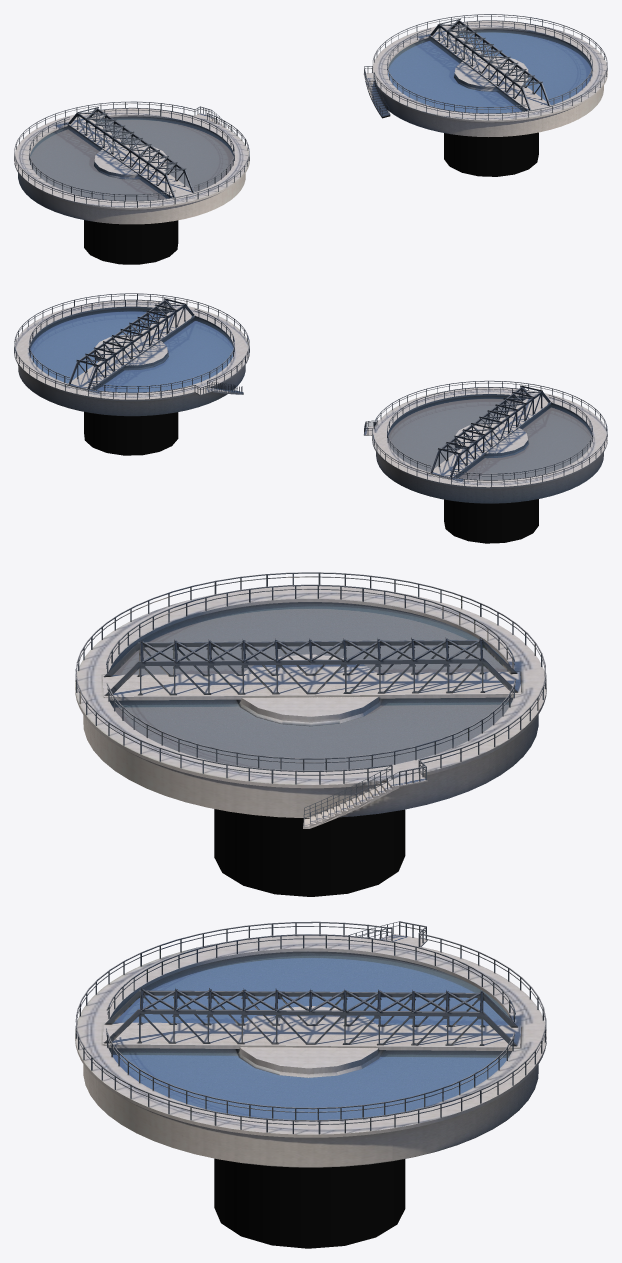
Rendered from 清水池.36b2b115.glb.
3 renders of one model, top to bottom at view 1: azimuth 30°, elevation 25°; view 2: azimuth 150°, elevation 25°; view 3: azimuth 270°, elevation 25°, orthographic. The views are drawn at different scales.
Visible parts, largest first — view 1: sc2054, sc2068, sc2060, sc2074, sc2078, sc2064, sc2069, sc2055, sc2079, sc2065, sc2077, sc2063 (+7 smaller); view 2: sc2068, sc2054, sc2074, sc2060, sc2078, sc2064, sc2069, sc2055, sc2065, sc2079, sc2063, sc2077 (+6 smaller); view 3: sc2068, sc2054, sc2060, sc2074, sc2064, sc2078, sc2055, sc2069, sc2063, sc2077, sc2065, sc2079 (+7 smaller).
Boxes of the visible parts, x1,y1,x2,y2 form: sc2054: (388,29,591,113); sc2068: (29,117,234,200); sc2060: (372,21,607,122); sc2074: (14,108,249,209); sc2078: (84,144,178,264); sc2064: (444,55,538,176); sc2069: (18,116,245,224); sc2055: (376,29,603,137); sc2079: (68,107,194,197); sc2065: (430,18,550,110); sc2077: (66,117,195,198); sc2063: (428,30,551,111); sc2068: (388,396,591,479); sc2054: (29,309,234,392); sc2074: (372,387,607,488); sc2060: (14,300,249,401); sc2078: (444,422,538,543); sc2064: (84,334,178,455); sc2069: (376,395,603,503); sc2055: (18,308,245,416); sc2065: (68,298,194,388); sc2079: (430,385,550,476); sc2063: (67,310,195,390); sc2077: (428,397,552,478); sc2068: (109,603,513,770); sc2054: (108,953,511,1121); sc2060: (75,935,546,1137); sc2074: (75,586,546,788); sc2064: (214,1006,405,1248); sc2078: (214,654,405,896); sc2055: (83,951,538,1167); sc2069: (83,602,538,817); sc2063: (102,1022,521,1050); sc2077: (102,672,521,700); sc2065: (104,987,517,1046); sc2079: (104,637,517,695).
Bounding box in the file's own units: 41.16 × 7.28 × 14.95.
28 materials, 28 textured.
